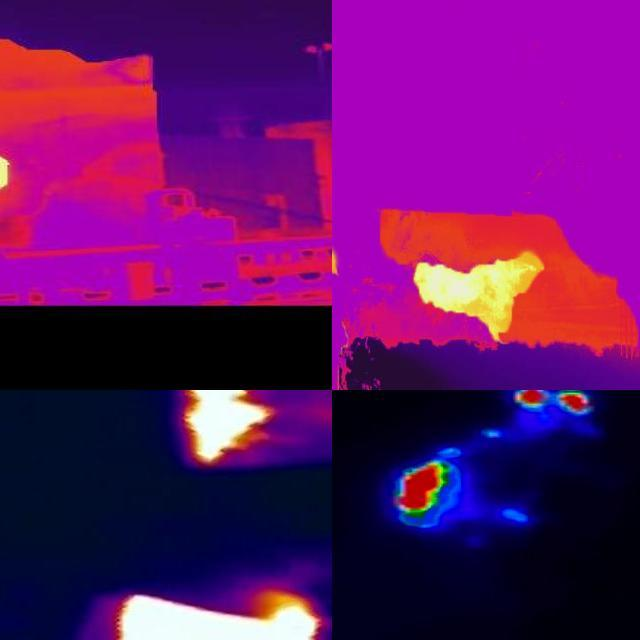fire: (407, 255, 547, 343), (89, 593, 325, 640), (181, 391, 287, 467), (394, 462, 447, 518), (511, 391, 592, 416), (1, 150, 15, 193)
